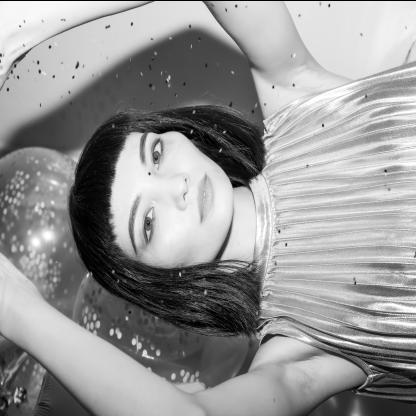Eye: (140, 199, 158, 251), (148, 132, 163, 174)
Mouth: (195, 170, 215, 223)
Nose: (158, 168, 188, 214)
